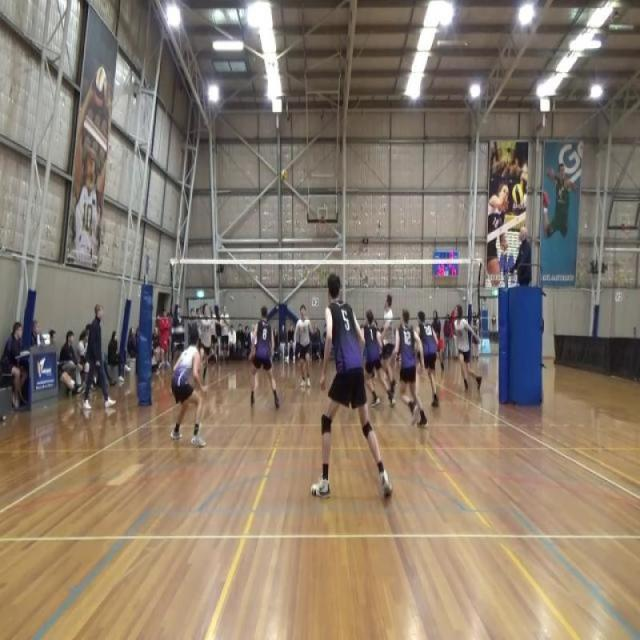volleyball: (95, 65, 107, 108), (512, 184, 524, 204), (281, 168, 288, 182)
